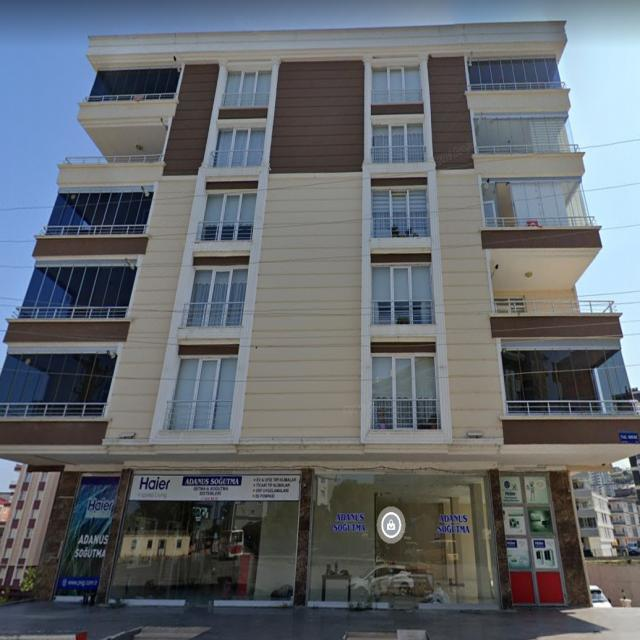Building: (0, 23, 640, 607)
